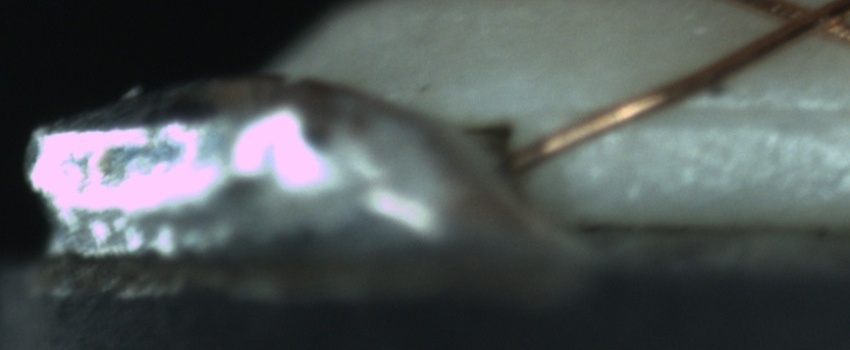CL: (759, 0, 843, 45)
DL: (622, 80, 843, 148)
